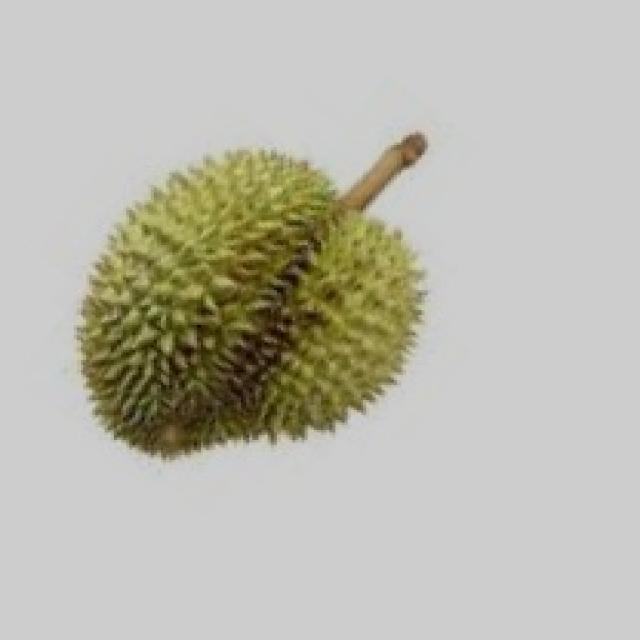fruit: (37, 122, 458, 498)
